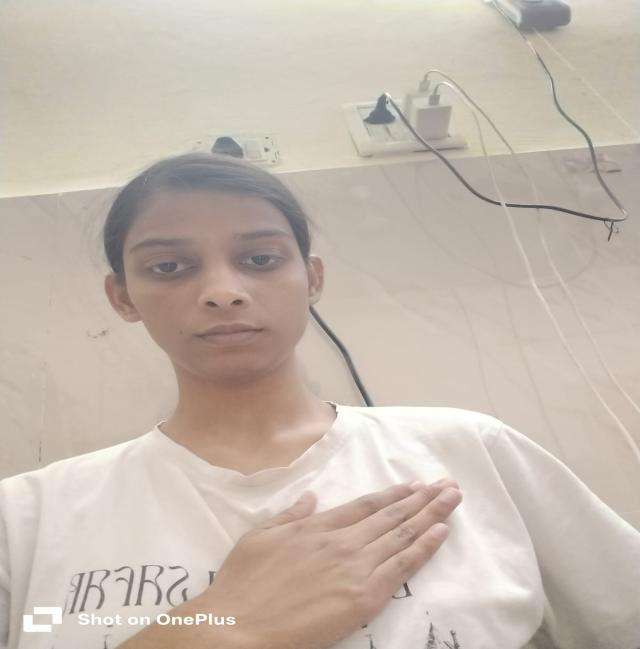Please: (208, 465, 480, 649)
